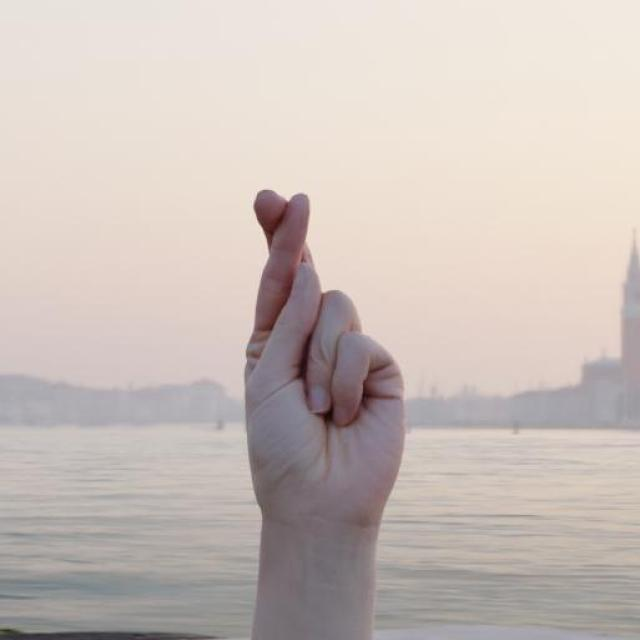R: (192, 147, 442, 640)
